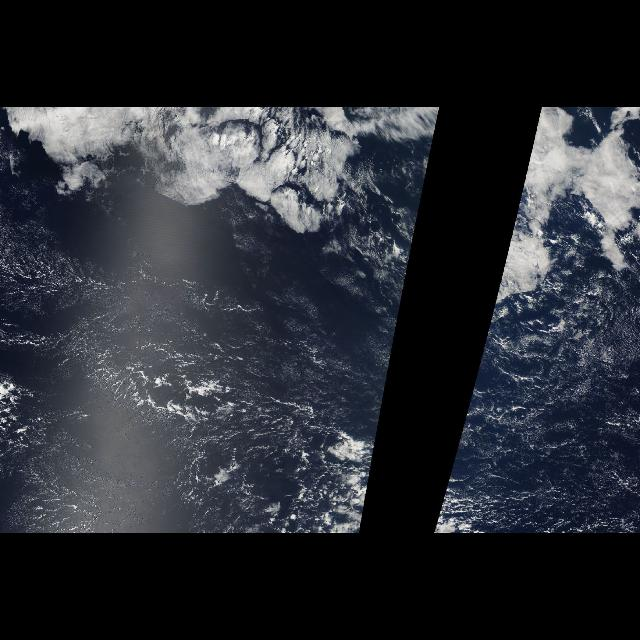Gravel: (465, 312, 639, 534)
Sugar: (2, 223, 414, 533), (436, 238, 640, 522)
